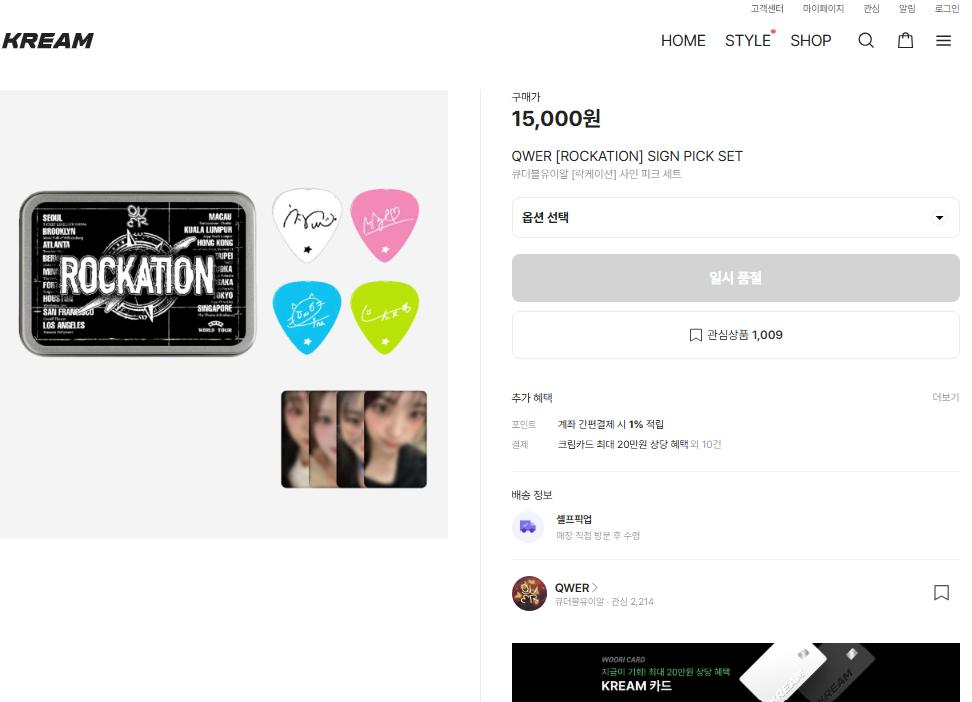button: (512, 308, 962, 361), (511, 253, 961, 301), (720, 26, 781, 53), (785, 24, 839, 54), (658, 28, 709, 54), (848, 25, 884, 54), (796, 0, 847, 19), (892, 23, 922, 52), (931, 27, 962, 55), (746, 0, 788, 19), (931, 0, 966, 19), (927, 389, 964, 406), (932, 577, 954, 605), (892, 0, 921, 19), (860, 0, 883, 16)
checkbox: (510, 196, 960, 239)
popup: (509, 640, 963, 702)
